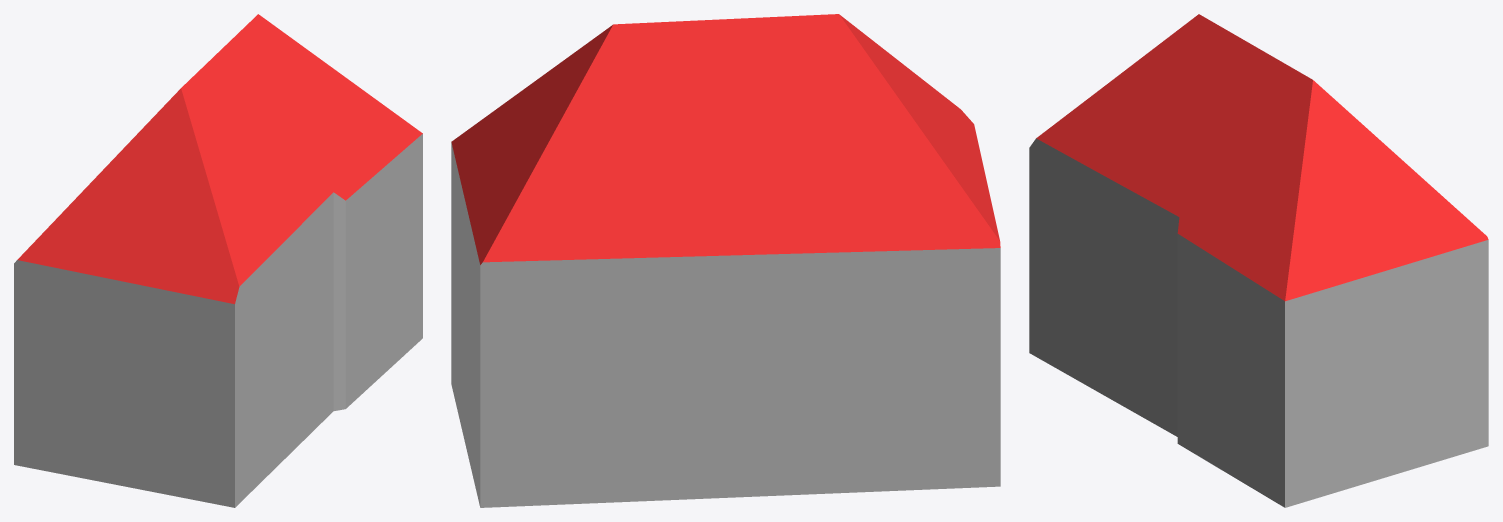
Rendered from DEBY_LOD2_4730020.dae.
The picture shows the model from 3 angles, left to right: view 1: azimuth 30°, elevation 25°; view 2: azimuth 150°, elevation 25°; view 3: azimuth 270°, elevation 25°; orthographic projection. The views are drawn at different scales.
Bounding box in the file's own units: 24.46 × 22.11 × 18.8.
